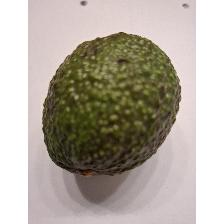Avocado: (40, 27, 184, 178)
